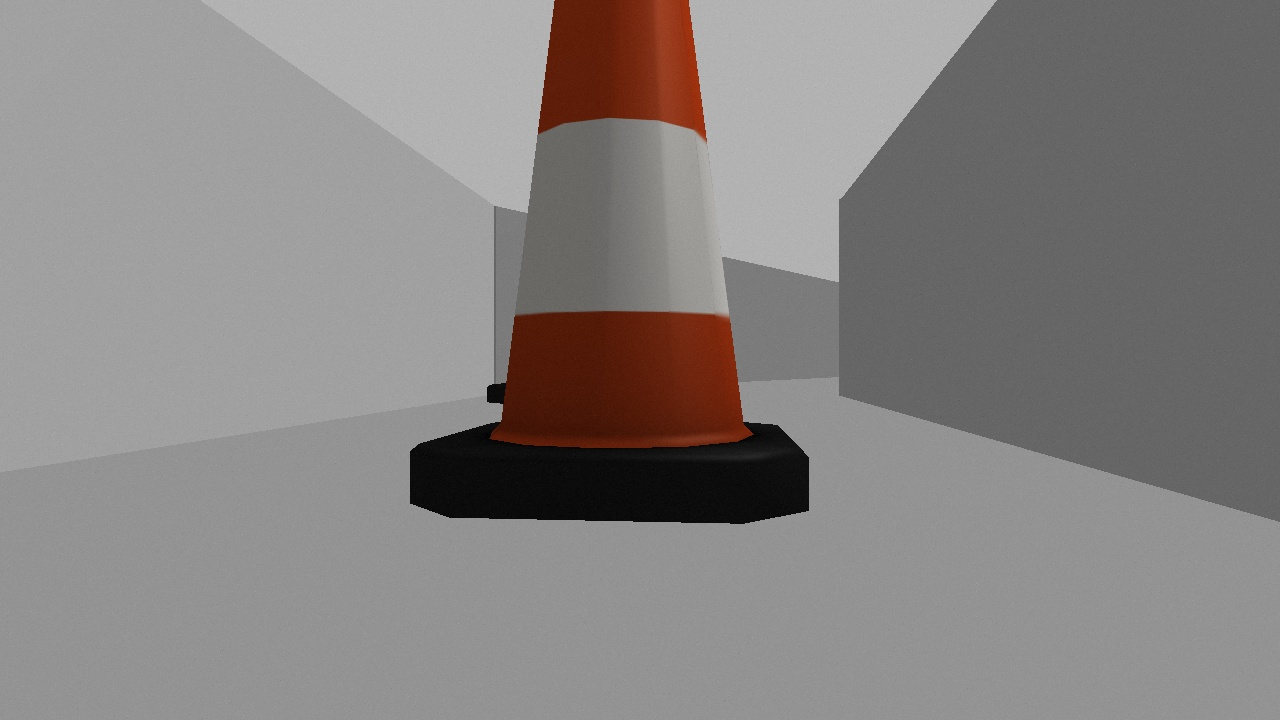barricade: (409, 1, 812, 524)
